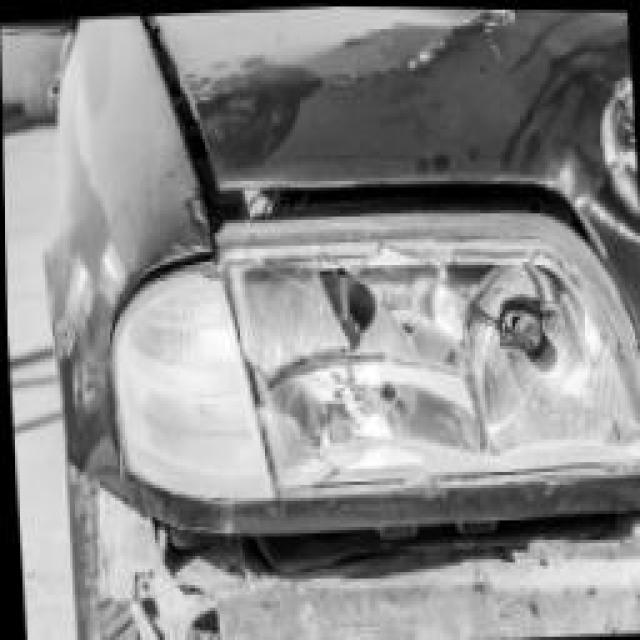Bonnet: (122, 3, 639, 221)
Bumper: (20, 504, 640, 640)
Light: (65, 191, 639, 552)
